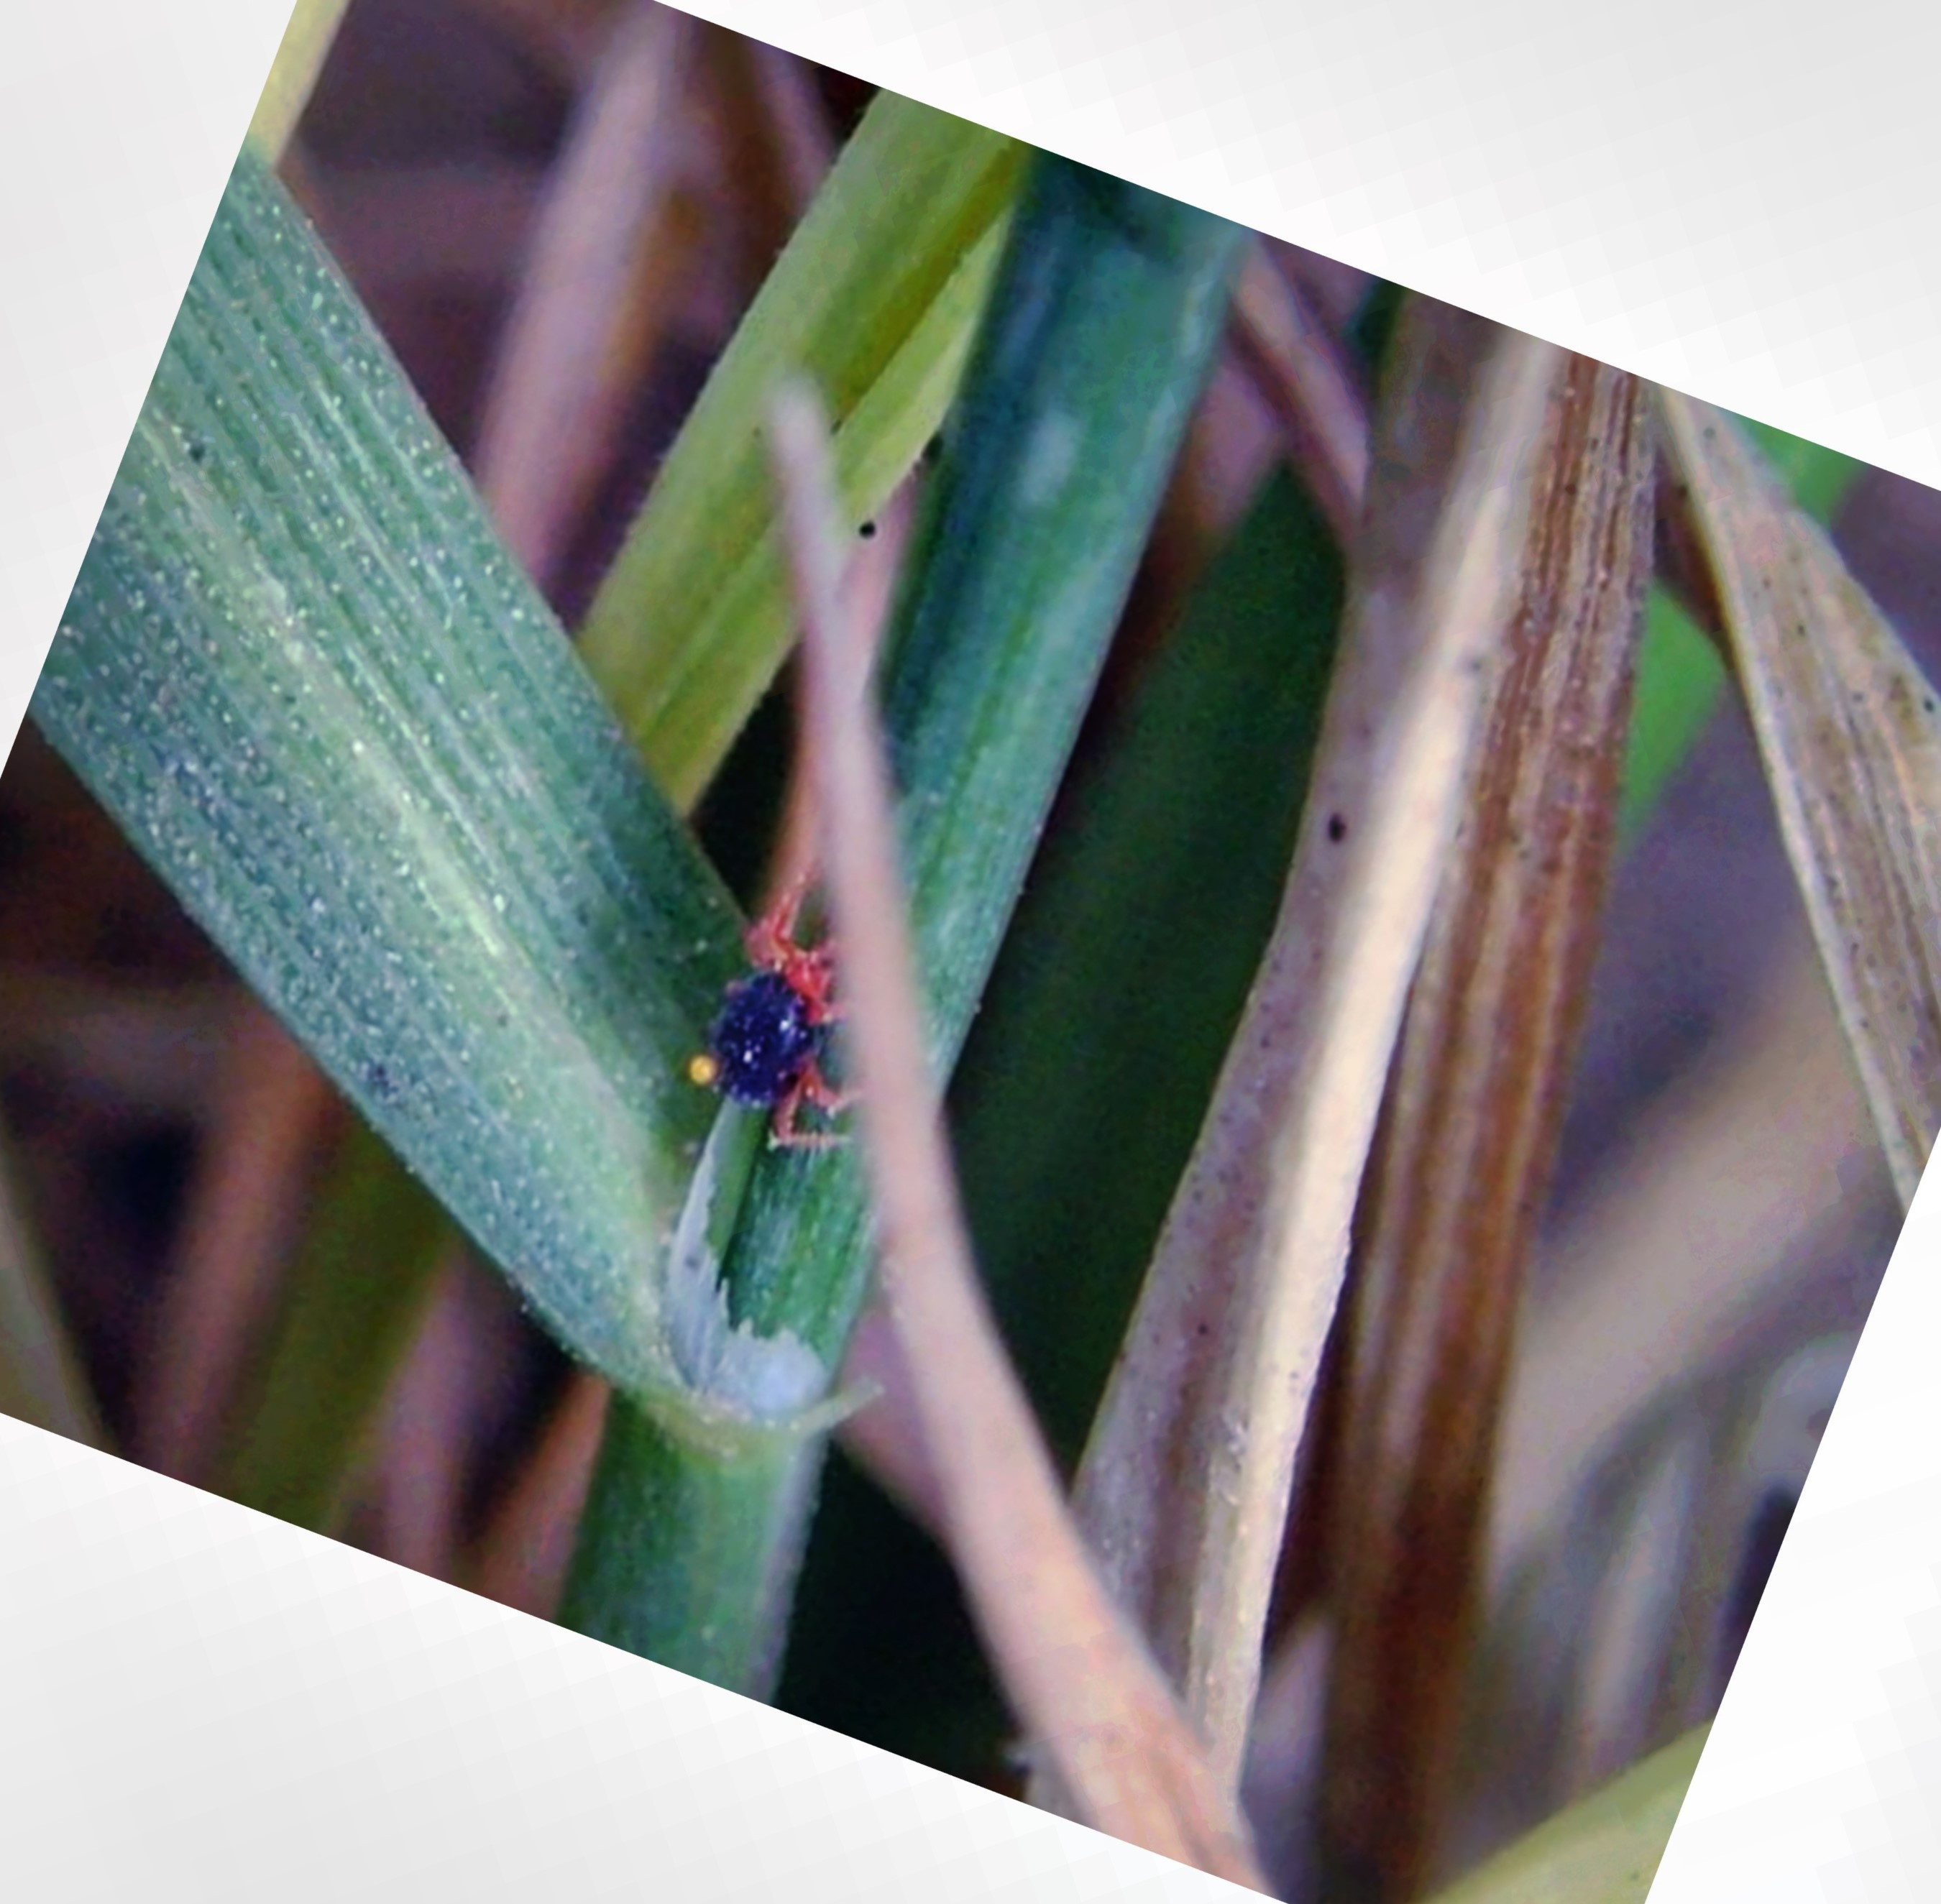Wheat Red Spider: (661, 872, 893, 1200)
